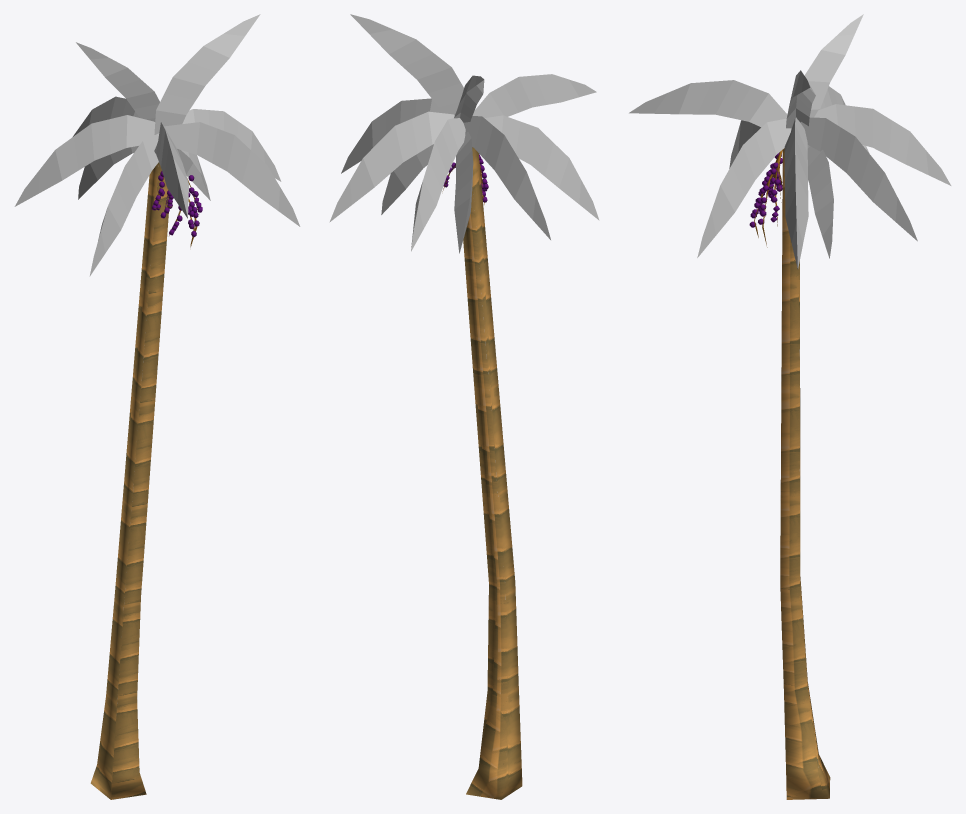
File: Acaizeiro.dae
3 views of the same model, side by side, from view 1: azimuth 30°, elevation 25°; view 2: azimuth 150°, elevation 25°; view 3: azimuth 270°, elevation 25° (orthographic). The views are drawn at different scales.
Parts seen in each view (by area): view 1: Folhas_Açai; view 2: Folhas_Açai; view 3: Folhas_Açai.
Part boxes in pixels (bbox=[...]): Folhas_Açai: bbox=[14, 14, 300, 799]; Folhas_Açai: bbox=[329, 14, 599, 799]; Folhas_Açai: bbox=[629, 14, 951, 799].
Bounding box in the file's own units: 2.71 × 3.03 × 8.04.
